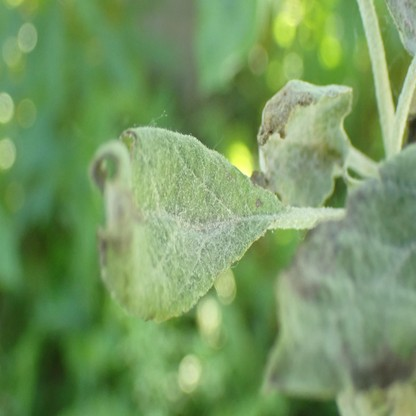powder: (262, 143, 416, 396), (107, 126, 280, 321), (252, 82, 353, 206), (385, 0, 416, 57)
